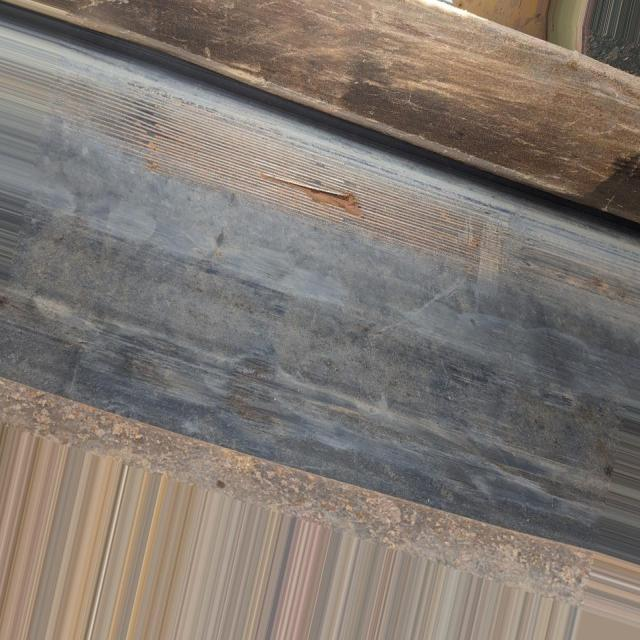impact damage: (138, 86, 494, 268)
